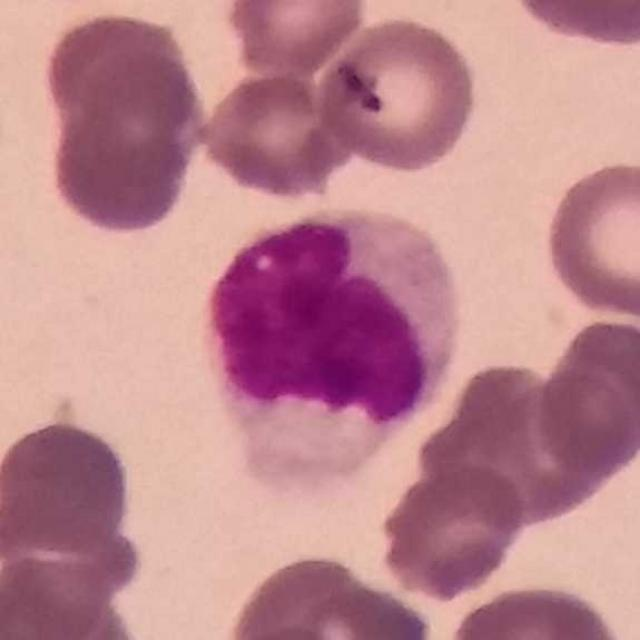mono: (210, 202, 467, 502)
